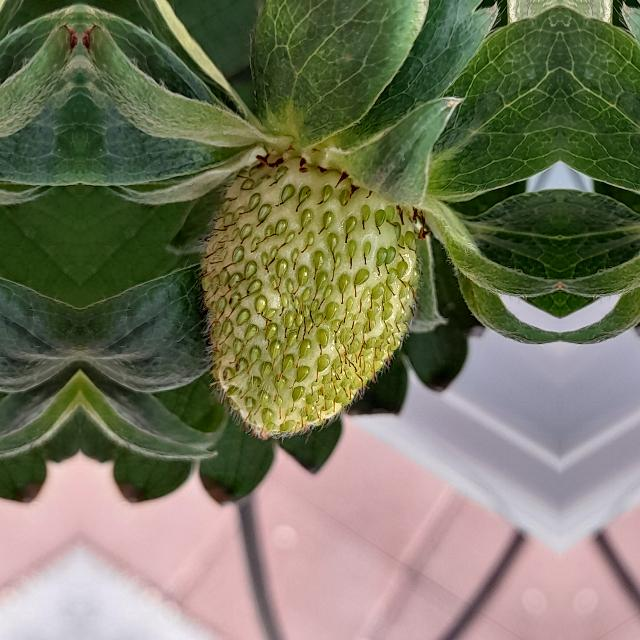Health_25: (194, 156, 422, 442)
